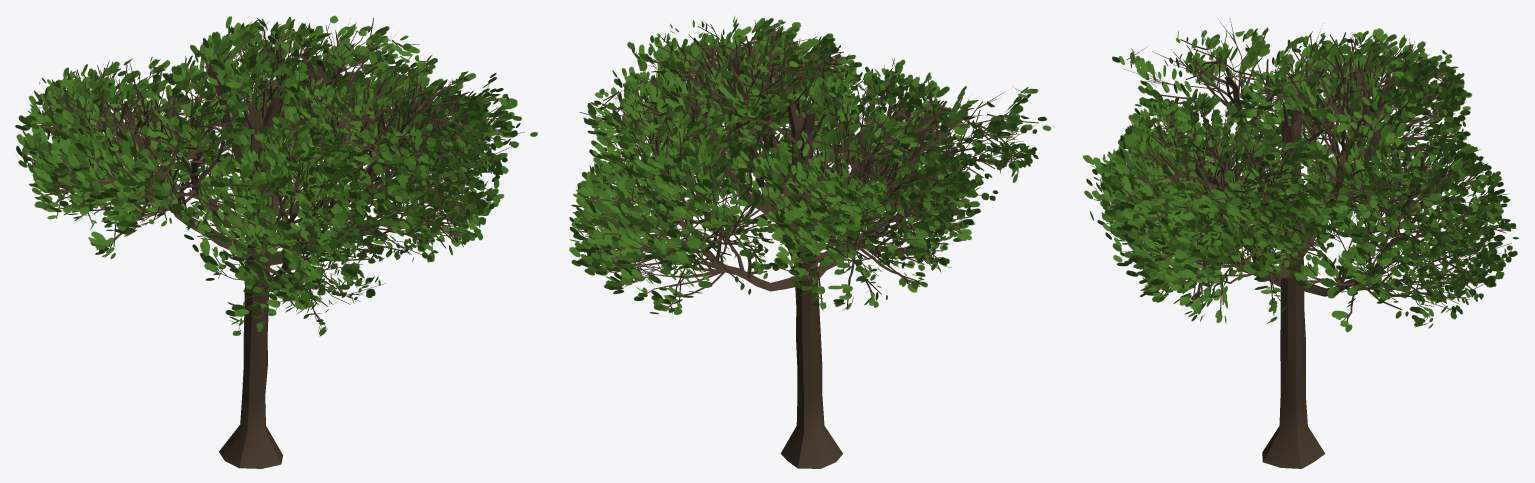
3 views of the same model, side by side, from view 1: azimuth 30°, elevation 25°; view 2: azimuth 150°, elevation 25°; view 3: azimuth 270°, elevation 25° (orthographic). The views are drawn at different scales.
Parts seen in each view (by area): view 1: oak 01.001_trunk_Mat.001_0.057; view 2: oak 01.001_trunk_Mat.001_0.057; view 3: oak 01.001_trunk_Mat.001_0.057.
Boxes of the visible parts, bbox=[...] form: oak 01.001_trunk_Mat.001_0.057: bbox=[15, 15, 537, 468]; oak 01.001_trunk_Mat.001_0.057: bbox=[569, 16, 1050, 468]; oak 01.001_trunk_Mat.001_0.057: bbox=[1083, 18, 1518, 468].
Bounding box in the file's own units: 6.63 × 5.51 × 6.01.
2 materials, 1 textured.
